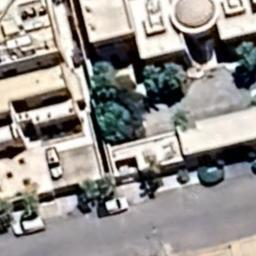SUV: (12, 216, 46, 238), (45, 147, 64, 180)
pickup: (96, 196, 130, 220)
